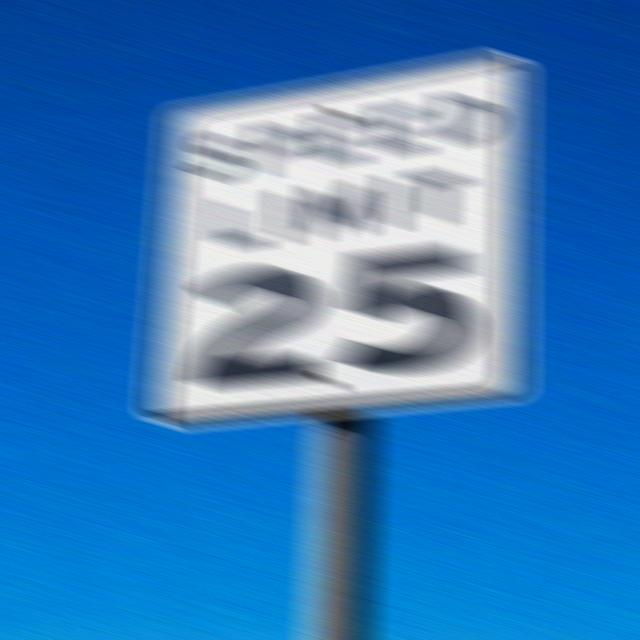speedLimit25: (137, 41, 546, 437)
